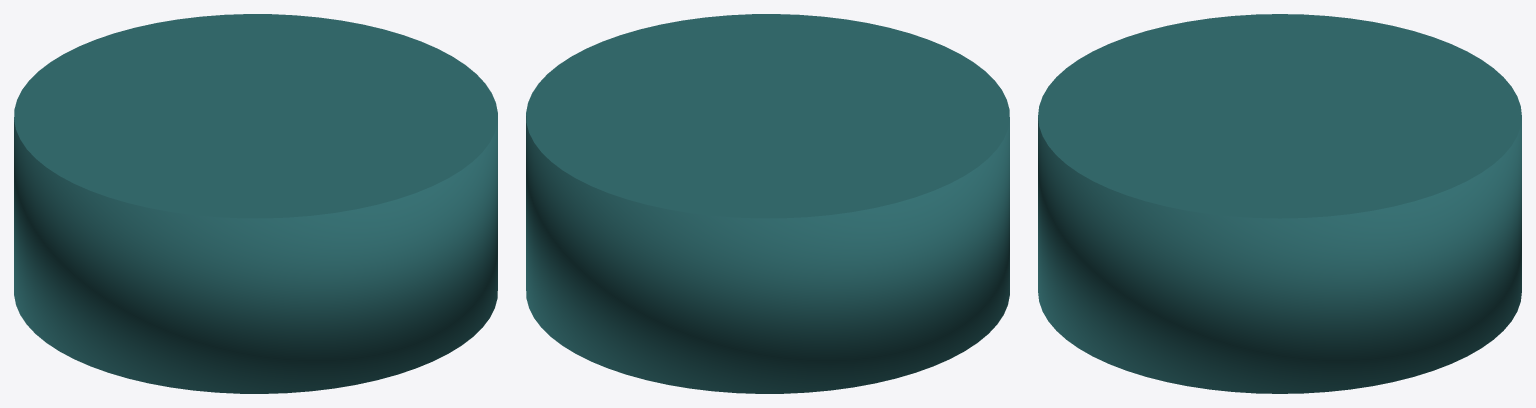
File: speed_control.glb
3 views of the same model, side by side, from view 1: azimuth 30°, elevation 25°; view 2: azimuth 150°, elevation 25°; view 3: azimuth 270°, elevation 25° (orthographic).
Parts seen in each view (by area): view 1: knob; view 2: knob; view 3: knob.
Part boxes in pixels (x1=…): knob: x1=14, y1=14, x2=497, y2=393; knob: x1=526, y1=14, x2=1009, y2=393; knob: x1=1038, y1=14, x2=1521, y2=393.
Size of the model in its own units: 0.03 by 0.013 by 0.03.
